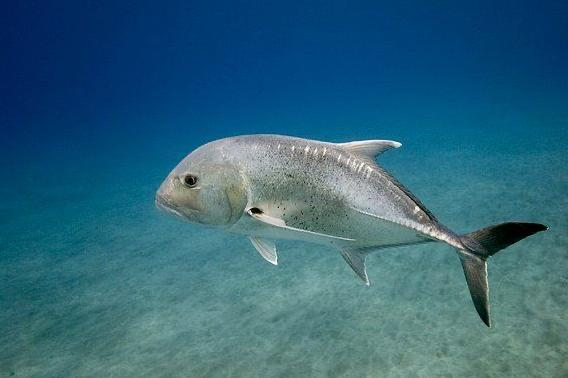Carangidae -Jacks-: (146, 116, 555, 327)
